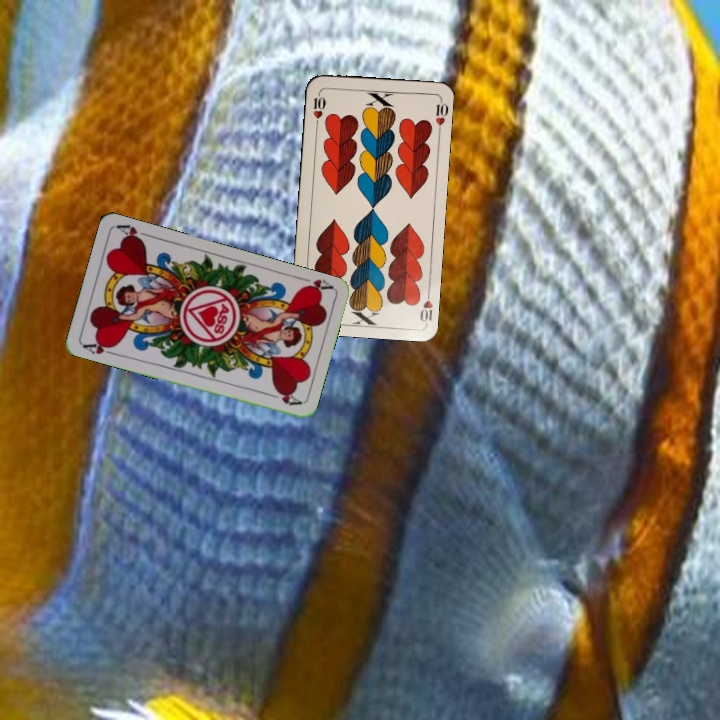H10: (415, 285, 435, 326), (309, 89, 328, 129)
HA: (295, 273, 335, 296), (79, 337, 119, 358)
